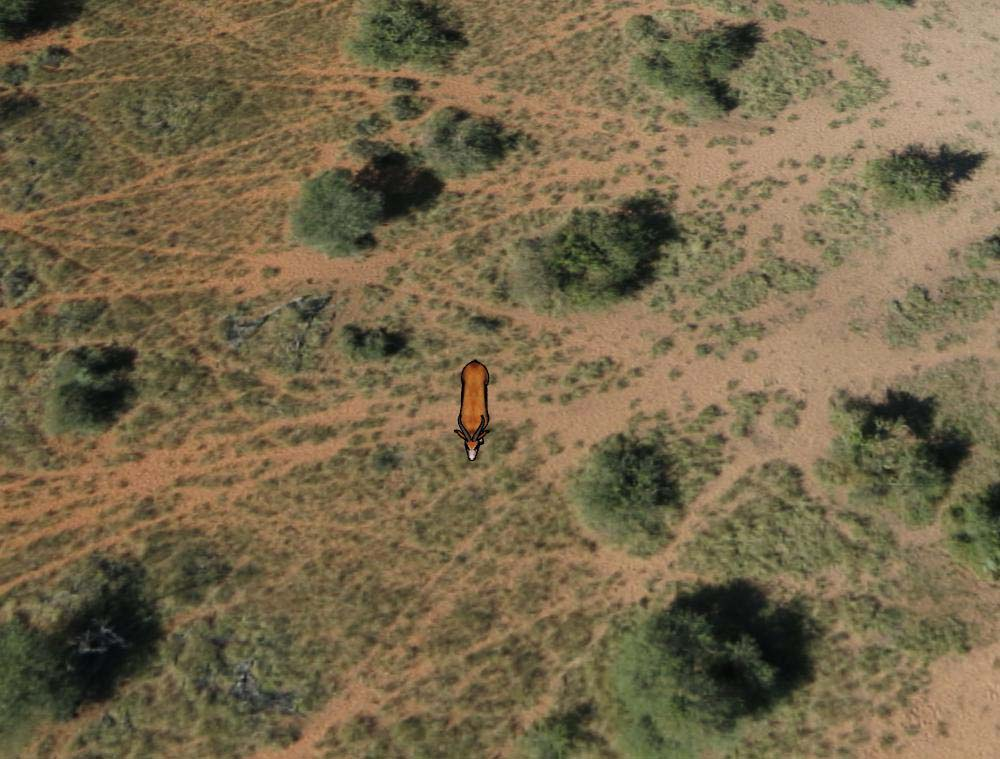springbok: (451, 360, 495, 465)
